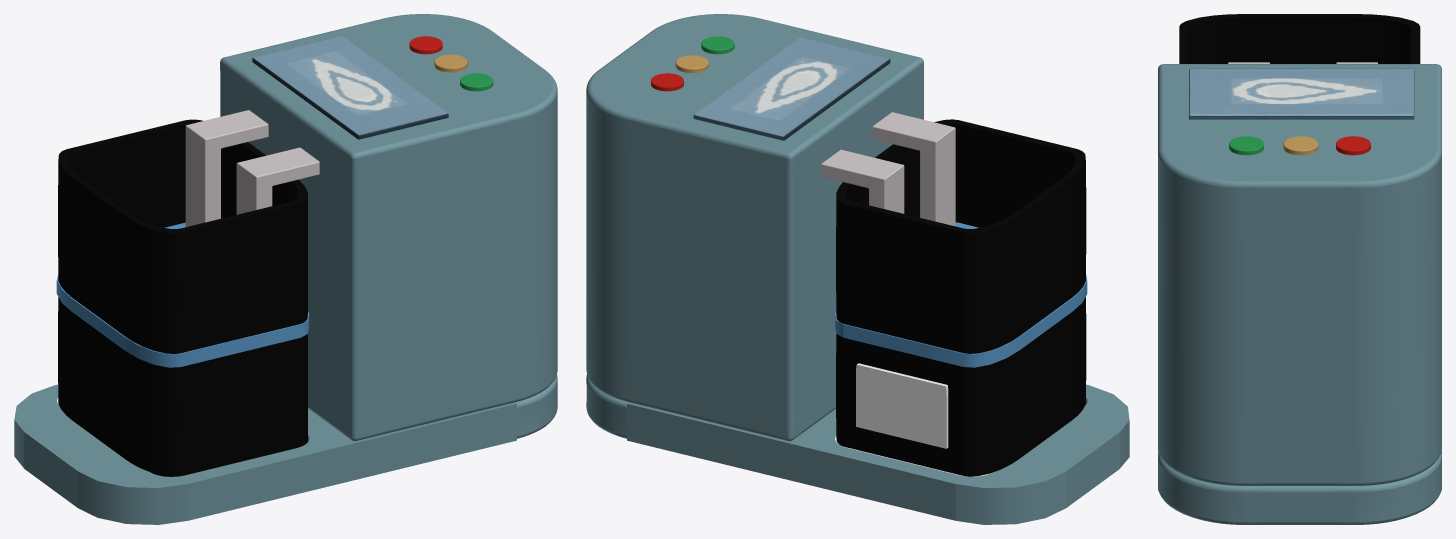
The model's file is 误删！源文件病毒清洗机.fbx.
3 renders of one model, left to right at view 1: azimuth 30°, elevation 25°; view 2: azimuth 150°, elevation 25°; view 3: azimuth 270°, elevation 25°, orthographic. The views are drawn at different scales.
Visible parts, largest first — view 1: 物件_194, 物件_7.001, 物件_8.001, 物件_5.001, 物件_190, 物件_10.001, 物件_6.001, 物件_24.001; view 2: 物件_194, 物件_7.001, 物件_8.001, 物件_5.001, 物件_190, 物件_4.001, 物件_24.001, 物件_6.001, 物件_10.001; view 3: 物件_194, 物件_190, 物件_7.001, 物件_8.001, 物件_192, 物件_191, 物件_193.
Boxes of the visible parts, x1,y1,x2,y2 form: 物件_194: [220, 14, 557, 441]; 物件_7.001: [58, 119, 307, 353]; 物件_8.001: [14, 375, 557, 524]; 物件_5.001: [58, 297, 307, 476]; 物件_190: [252, 36, 448, 139]; 物件_10.001: [185, 110, 268, 226]; 物件_6.001: [56, 274, 309, 367]; 物件_24.001: [236, 147, 319, 214]; 物件_194: [586, 14, 923, 441]; 物件_7.001: [836, 119, 1086, 353]; 物件_8.001: [586, 374, 1129, 524]; 物件_5.001: [836, 297, 1086, 476]; 物件_190: [693, 37, 890, 140]; 物件_4.001: [856, 363, 948, 448]; 物件_24.001: [872, 112, 955, 226]; 物件_6.001: [835, 274, 1087, 367]; 物件_10.001: [821, 149, 904, 213]; 物件_194: [1158, 64, 1441, 485]; 物件_190: [1189, 68, 1414, 119]; 物件_7.001: [1179, 14, 1420, 63]; 物件_8.001: [1158, 449, 1441, 524]; 物件_192: [1283, 136, 1318, 155]; 物件_191: [1336, 136, 1370, 155]; 物件_193: [1229, 136, 1263, 155].
Size of the model in its own units: 29.22 by 19.62 by 14.52.
